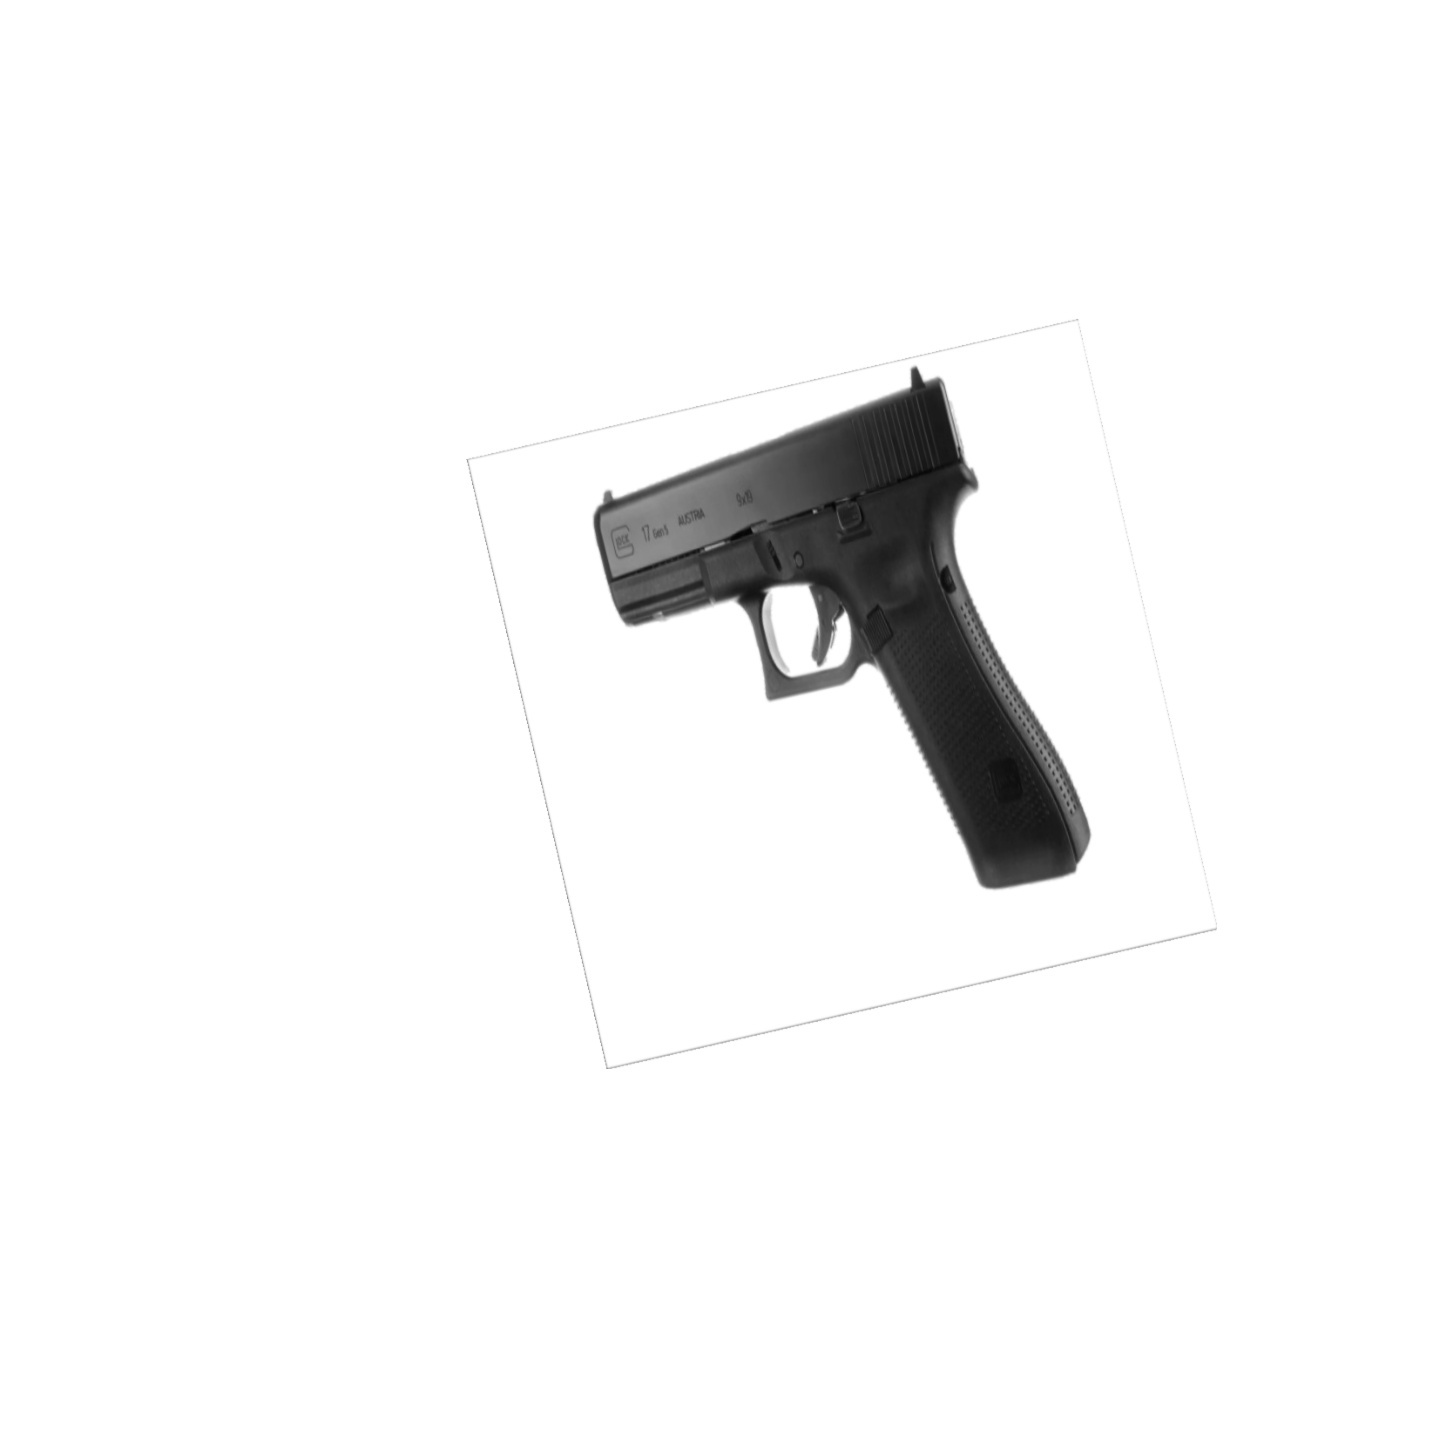gun: (591, 358, 1090, 901)
